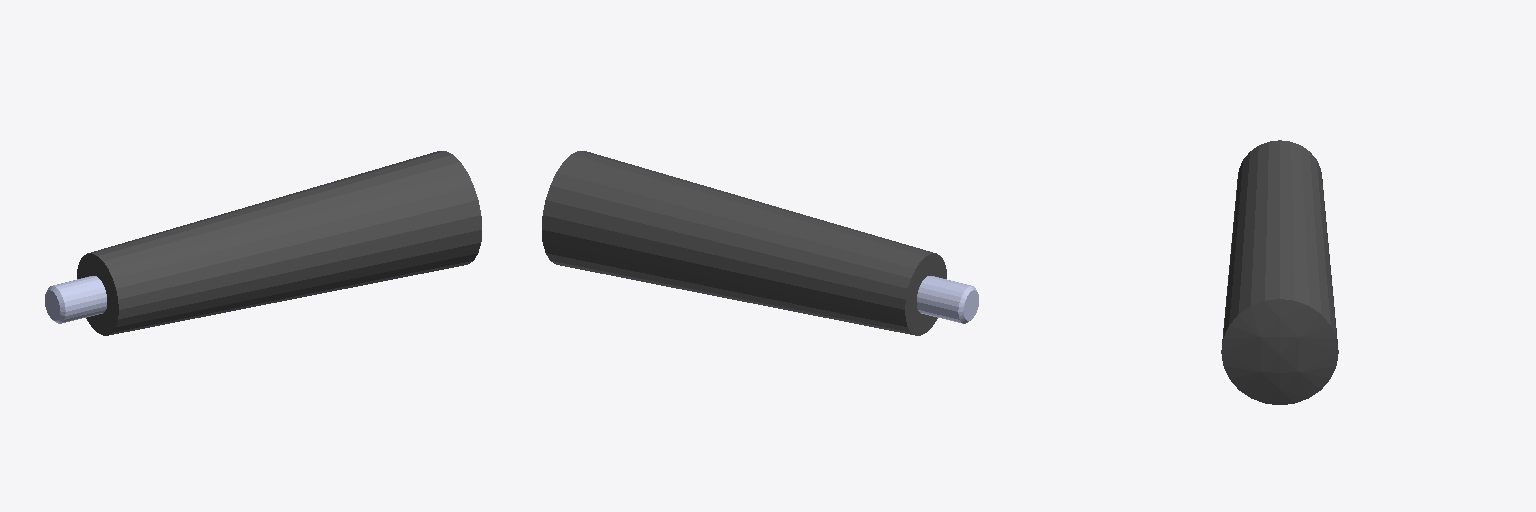
The model's file is ganter_gn_203-18-m6.obj.
3 views of the same model, side by side, from view 1: azimuth 30°, elevation 25°; view 2: azimuth 150°, elevation 25°; view 3: azimuth 270°, elevation 25° (orthographic).
Visible parts, largest first — view 1: ganter_gn_203-18-m6_1; view 2: ganter_gn_203-18-m6_1; view 3: ganter_gn_203-18-m6_1.
Boxes of the visible parts, box(x1,y1,x2,y2) form: ganter_gn_203-18-m6_1: box(45, 151, 481, 335); ganter_gn_203-18-m6_1: box(542, 151, 978, 335); ganter_gn_203-18-m6_1: box(1221, 140, 1338, 404).
Size of the model in its own units: 72 by 18 by 18.